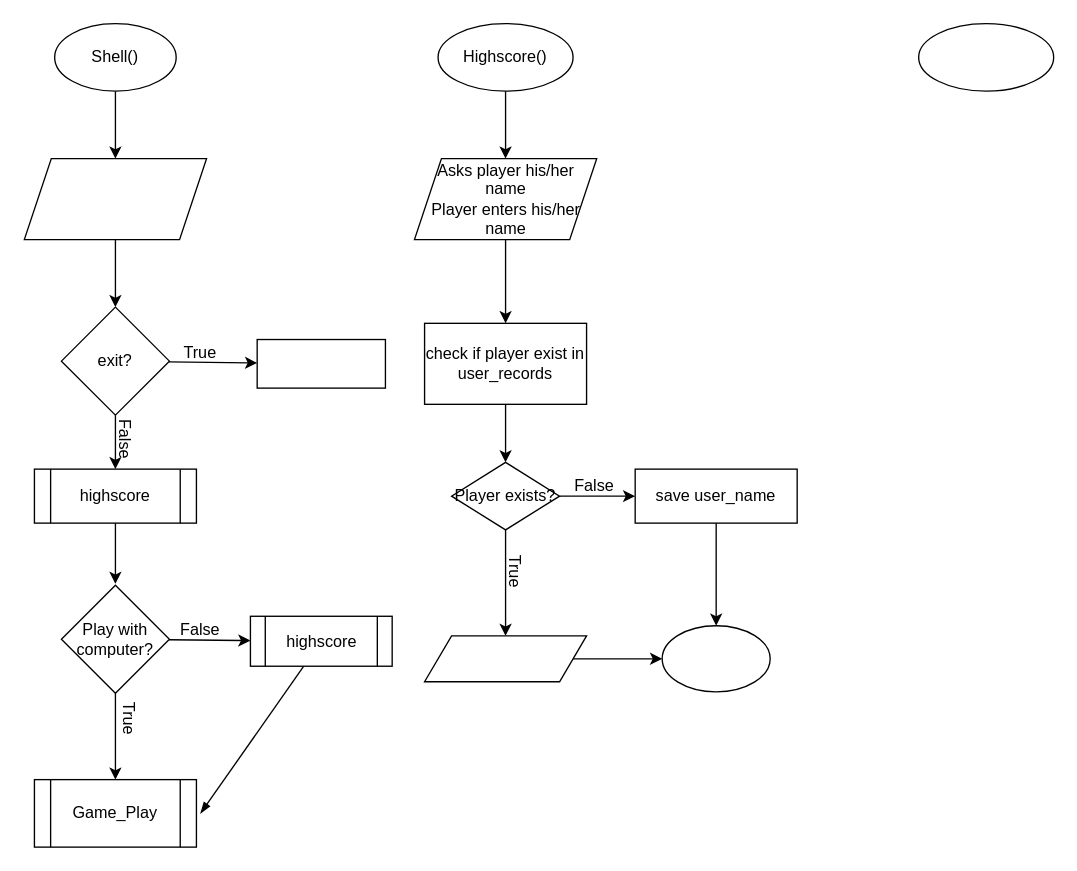
This 1077x871 diagram has some shape labels left out. Here are the shapes that lost their labels. From the top down, the centre of each, then its label:
At point 985,56: "game_play()".
At point 115,198: "Display welcome message".
At point 320,363: "Quit".
At point 505,658: "Welcome user back".
At point 715,658: "return".
